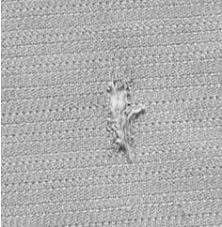Hole: (79, 62, 163, 177)
